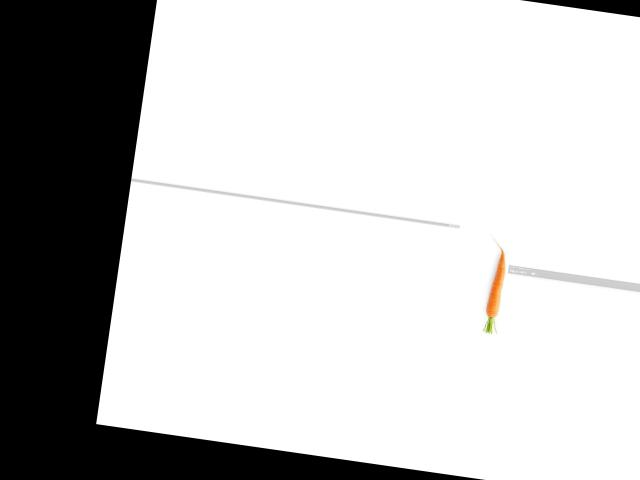carrot: (482, 261, 509, 324)
